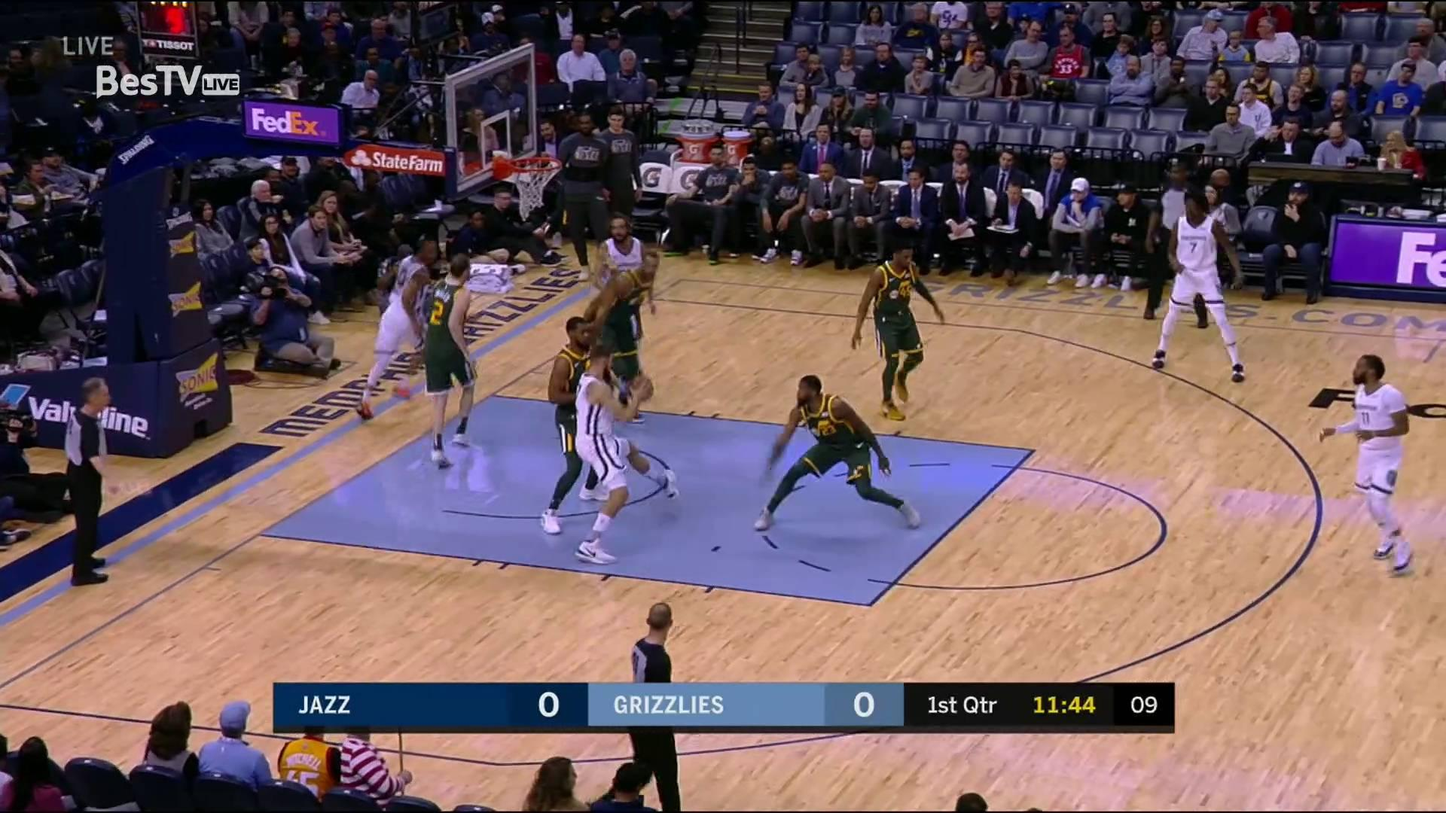basketball: (630, 374, 656, 402)
